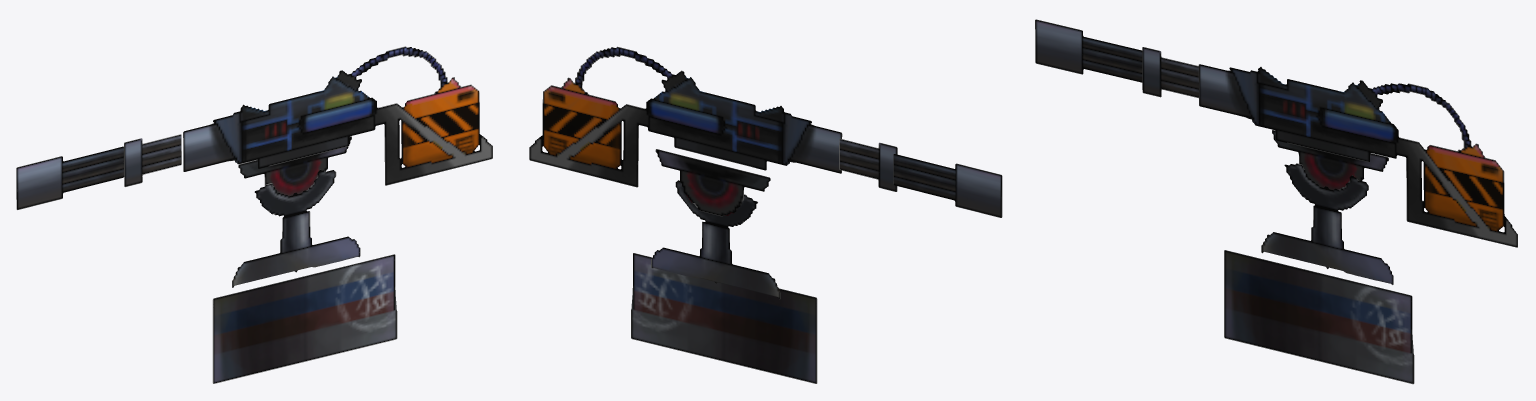
File: machineGun@fire.FBX
The picture shows the model from 3 angles, left to right: view 1: azimuth 30°, elevation 25°; view 2: azimuth 150°, elevation 25°; view 3: azimuth 330°, elevation 25°; orthographic projection. The views are drawn at different scales.
Visible parts, largest first — view 1: JiQiang, DZ, ZhiJia, QiangTou, ZhuanZhou, QiangGuan; view 2: JiQiang, DZ, ZhiJia, QiangTou, ZhuanZhou, QiangGuan; view 3: JiQiang, DZ, ZhiJia, QiangTou, ZhuanZhou, QiangGuan.
Boxes of the visible parts, x1,y1,x2,y2 form: JiQiang: (183,46,492,185); DZ: (212,254,397,383); ZhiJia: (232,169,360,287); QiangTou: (16,146,124,209); ZhuanZhou: (238,136,351,196); QiangGuan: (124,134,181,186); JiQiang: (529,46,842,187); DZ: (631,253,817,383); ZhiJia: (651,180,780,299); QiangTou: (893,154,1002,217); ZhuanZhou: (655,149,770,216); QiangGuan: (839,138,897,191); JiQiang: (1198,64,1517,247); DZ: (1224,250,1414,384); ZhiJia: (1261,163,1393,284); QiangTou: (1035,19,1142,82); ZhuanZhou: (1272,130,1388,190); QiangGuan: (1142,47,1198,98).
Size of the model in its own units: 50.17 by 30.14 by 1.88.
